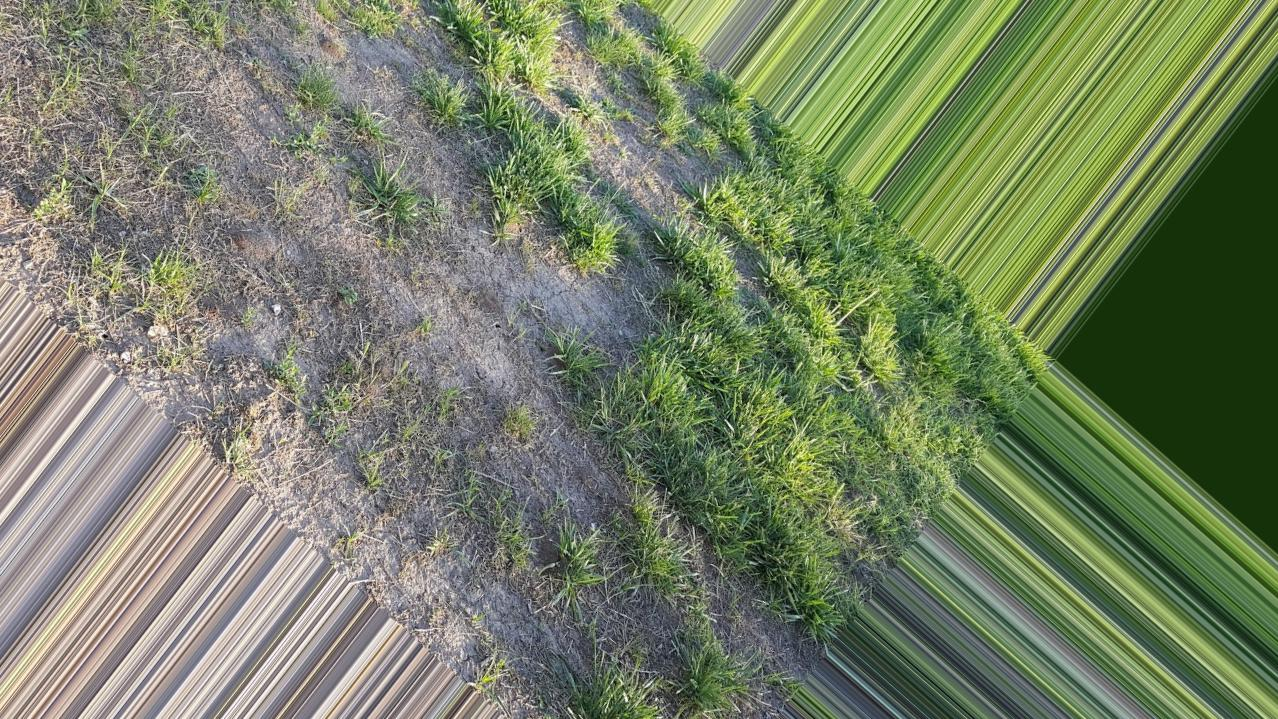patch: (197, 116, 404, 308), (433, 202, 583, 431), (20, 45, 151, 270), (240, 358, 405, 530), (556, 53, 692, 208), (432, 533, 563, 672), (231, 35, 397, 110), (110, 299, 204, 397)
